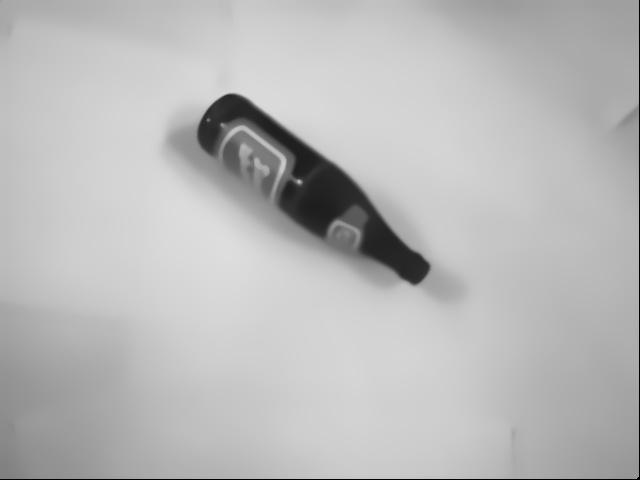Glass: (198, 93, 435, 293)
